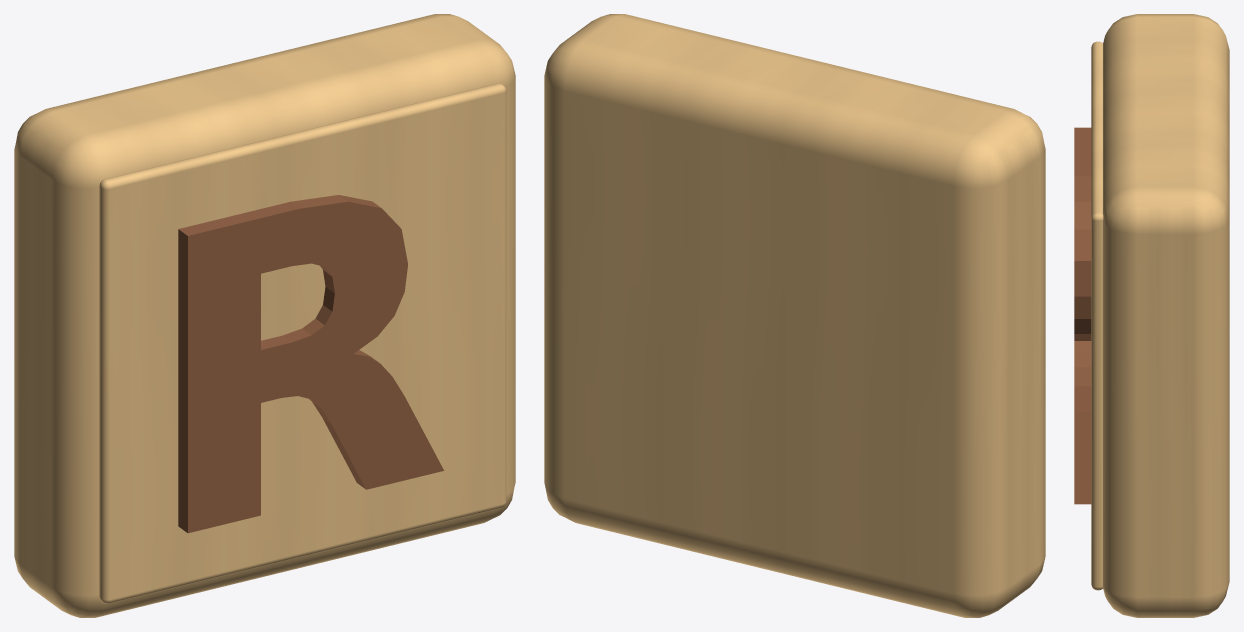
The picture shows the model from 3 angles, left to right: view 1: azimuth 30°, elevation 25°; view 2: azimuth 150°, elevation 25°; view 3: azimuth 270°, elevation 25°; orthographic projection. The views are drawn at different scales.
Parts seen in each view (by area): view 1: Tile_R; view 2: Tile_R; view 3: Tile_R.
Part boxes in pixels (x1,y1,x2,y2): Tile_R: (14,14,515,617); Tile_R: (544,14,1045,617); Tile_R: (1074,14,1229,617).
Bounding box in the file's own units: 0.21 × 0.21 × 0.069.
Materials: 2 (1 with a texture image).
